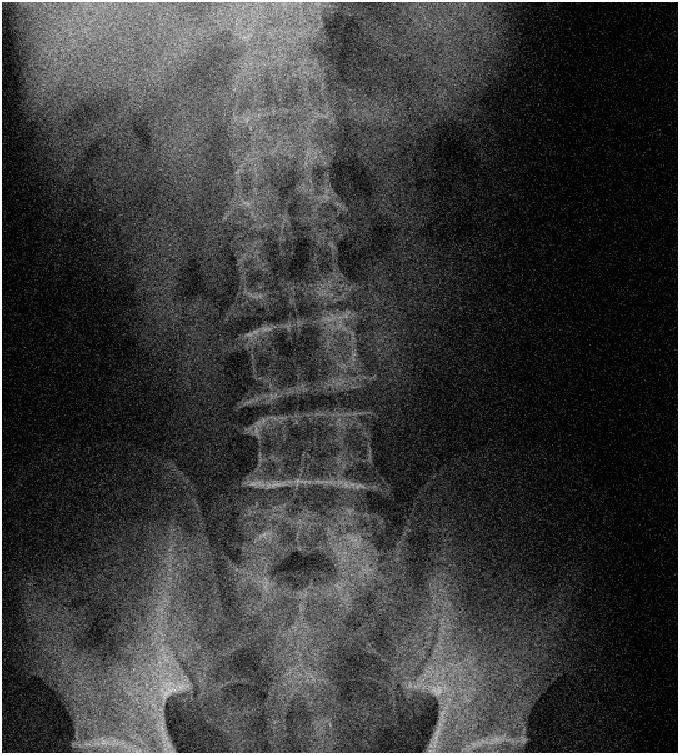lumbar scoliosis: (214, 117, 391, 566)
